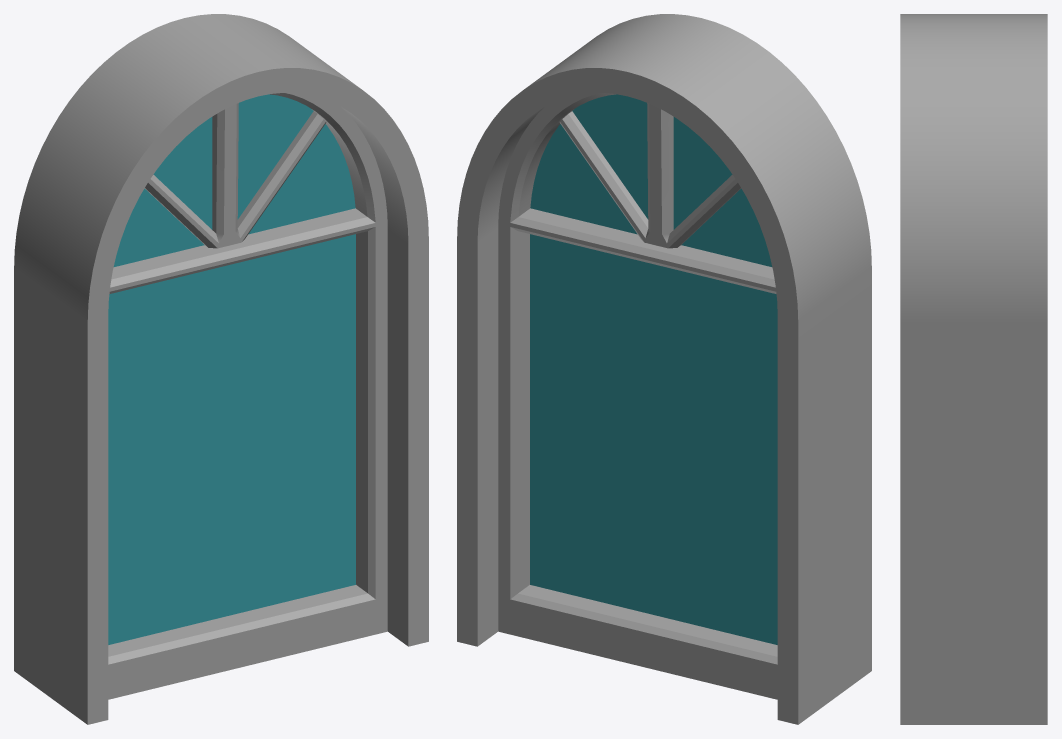
The model's file is Window.fbx.
The picture shows the model from 3 angles, left to right: view 1: azimuth 30°, elevation 25°; view 2: azimuth 150°, elevation 25°; view 3: azimuth 270°, elevation 25°; orthographic projection.
Parts seen in each view (by area): view 1: Window; view 2: Window; view 3: Window.
Boxes of the visible parts, bbox=[...] form: Window: bbox=[14, 14, 428, 724]; Window: bbox=[457, 14, 871, 724]; Window: bbox=[900, 14, 1047, 724].
Bounding box in the file's own units: 645 × 1105 × 241.
